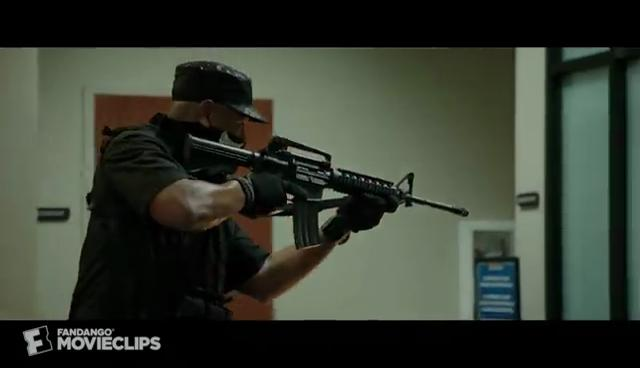criminal: (66, 60, 470, 319)
weapon: (184, 133, 471, 250)
